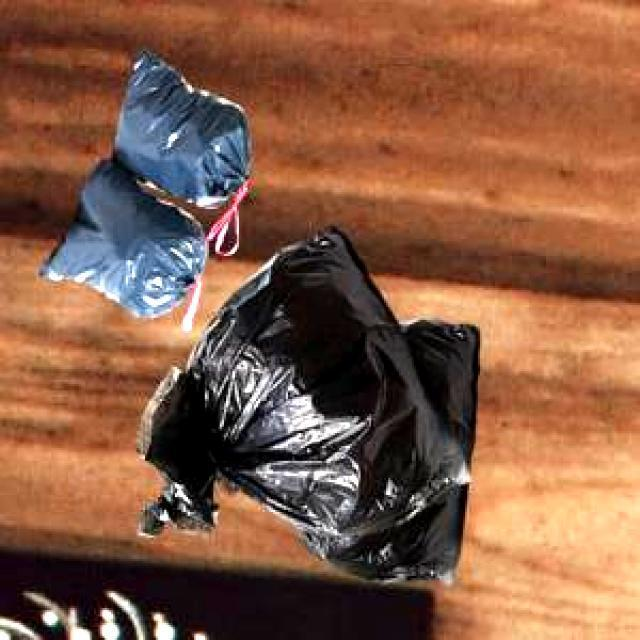Bolsa-de-nilon: (136, 226, 483, 586), (39, 48, 254, 320)
